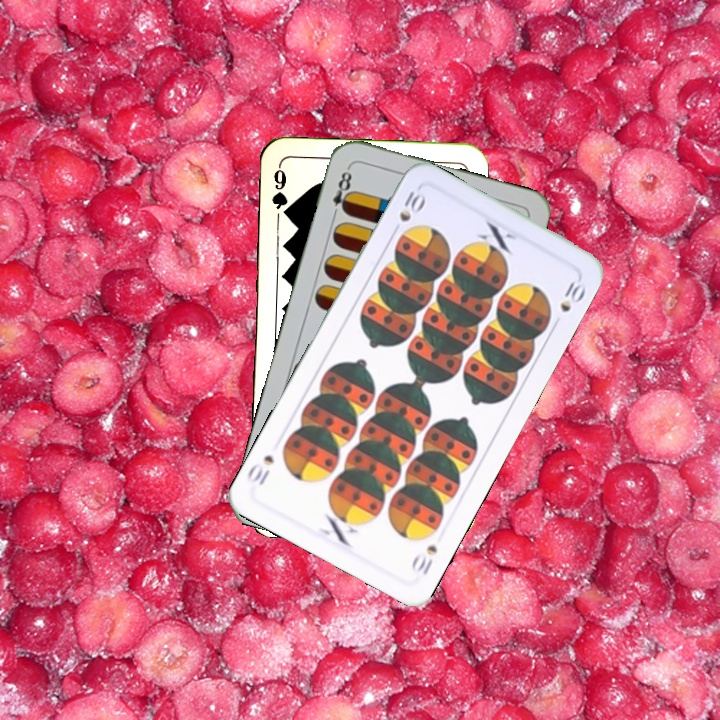E8: (328, 163, 355, 221)
G9: (268, 162, 293, 221)
S10: (395, 187, 428, 225), (407, 540, 440, 578)
